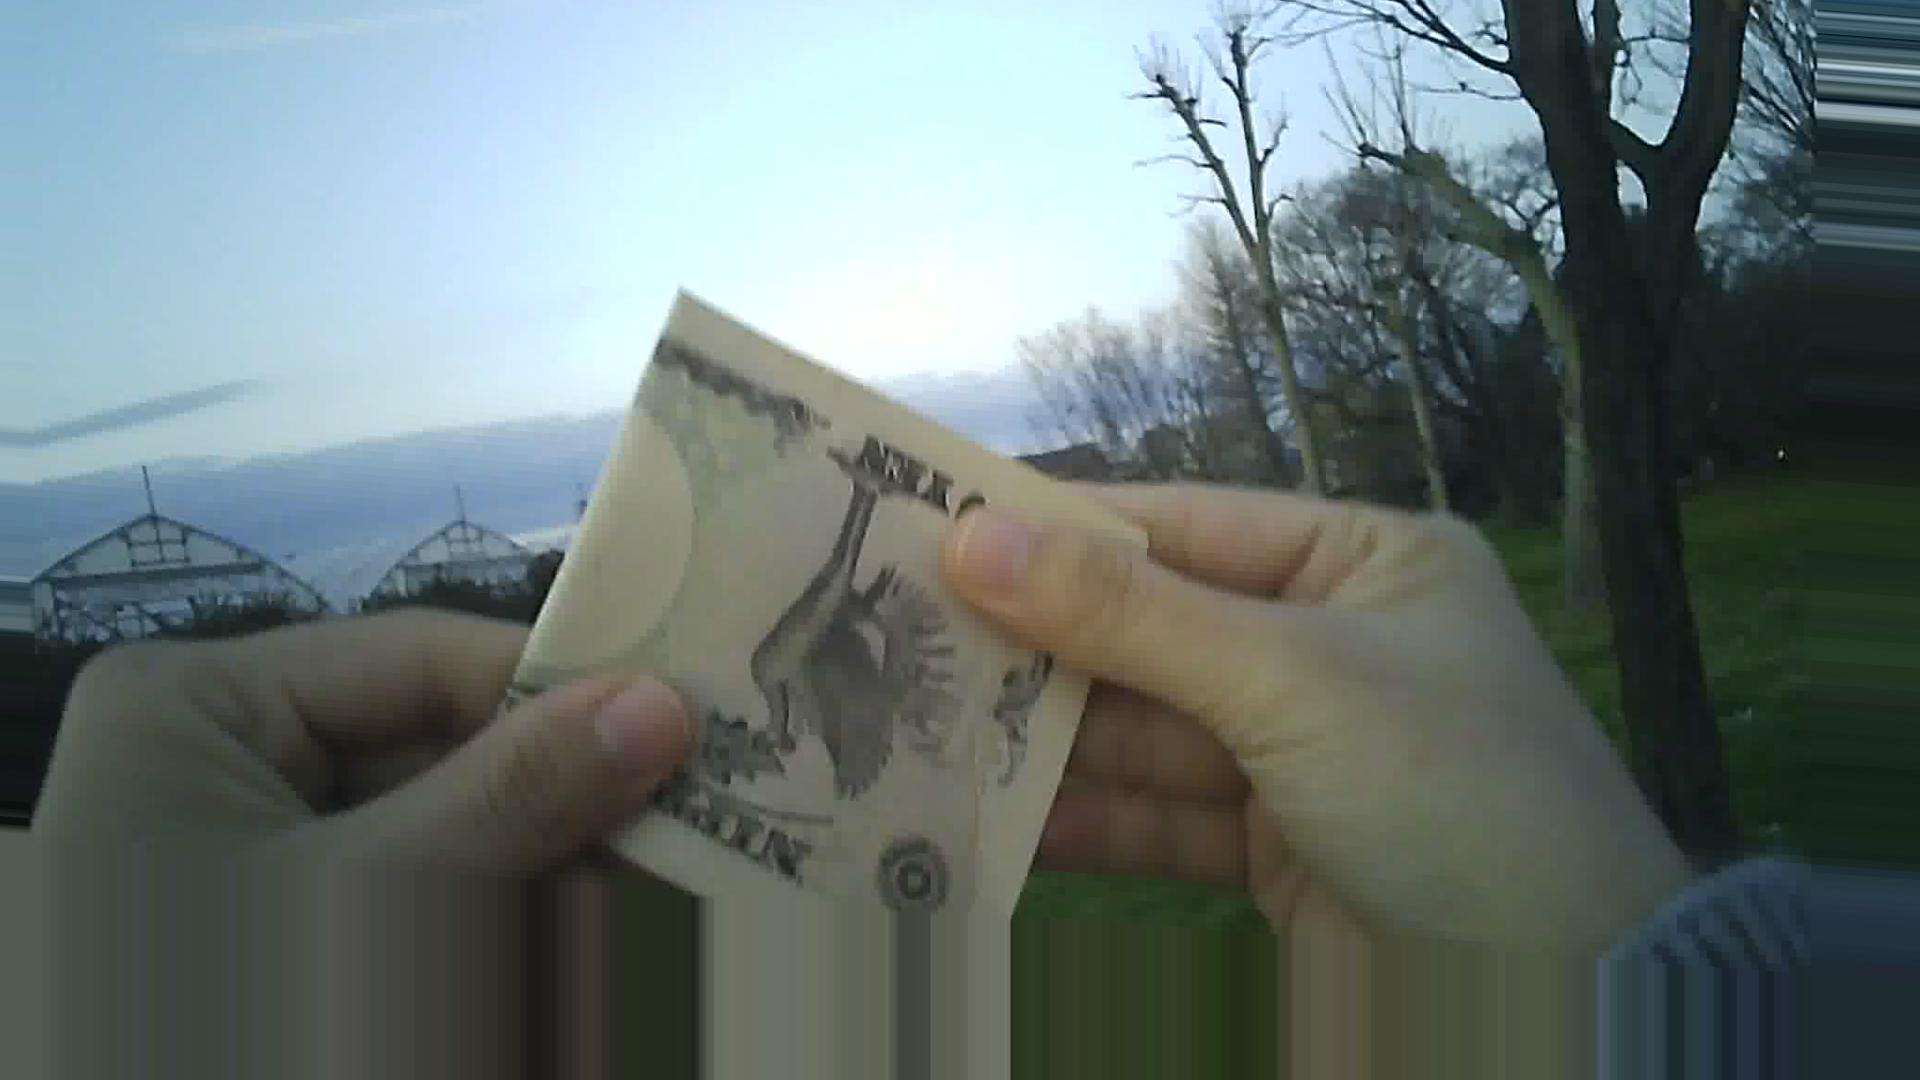10,000 Yen: (501, 293, 1164, 934)
